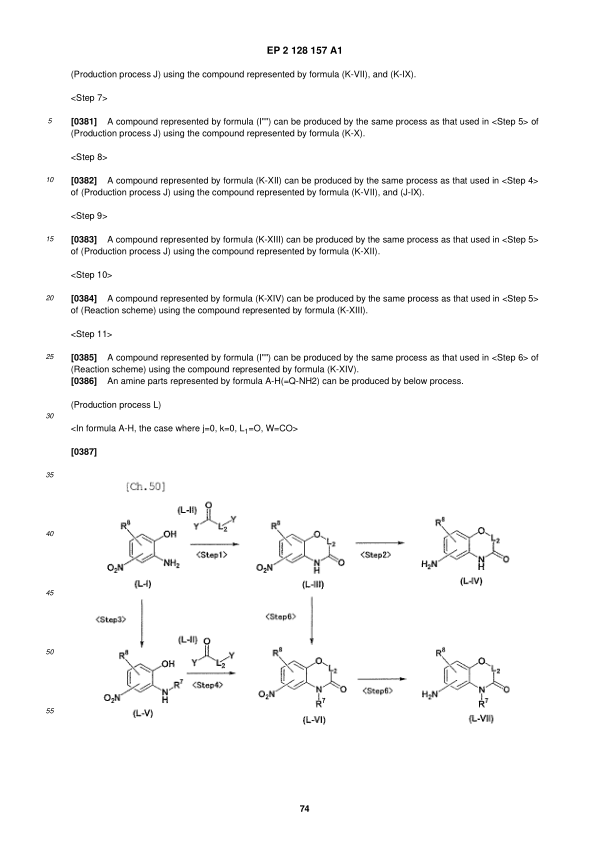compound-structure: (419, 513, 510, 590), (254, 516, 347, 591), (103, 641, 186, 724), (420, 638, 510, 714), (254, 646, 345, 716), (102, 513, 182, 576), (182, 495, 238, 538), (192, 638, 239, 666), (195, 632, 196, 647)
reaction: (91, 466, 541, 749)
reaction-arrow: (188, 632, 240, 692), (186, 538, 244, 561), (351, 674, 409, 697), (354, 538, 408, 559)
